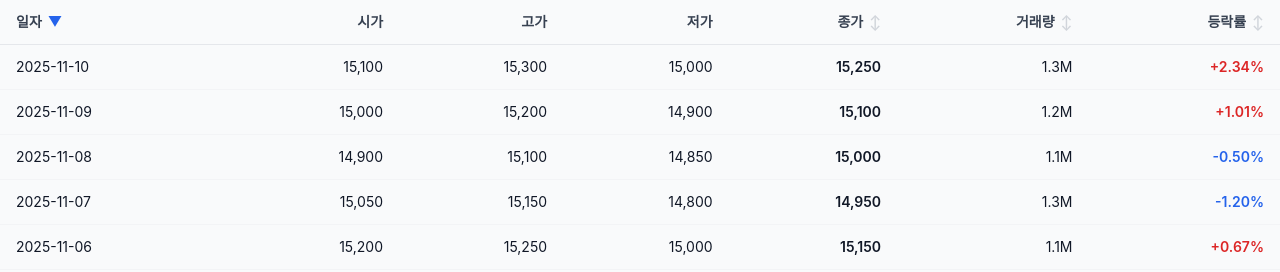
Scenario: PriceTable › 정렬 기능 › 일자 기준으로 오름차순/내림차순 정렬이 가능하다
Check: the text "2025-11-10" is shown, box 0,44 -> 234,90
# 클릭하여 오름차순으로 변경
Click the column heading "일자" at (117, 22), box 0,0 -> 234,44
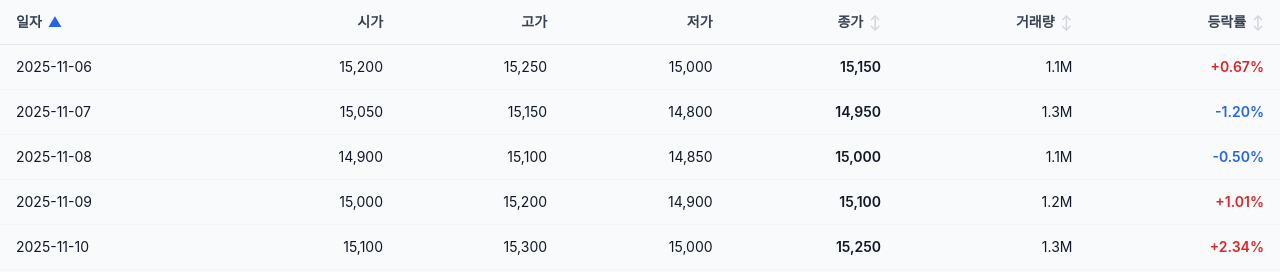
Check: the text "2025-11-06" is shown, box 0,44 -> 234,90
